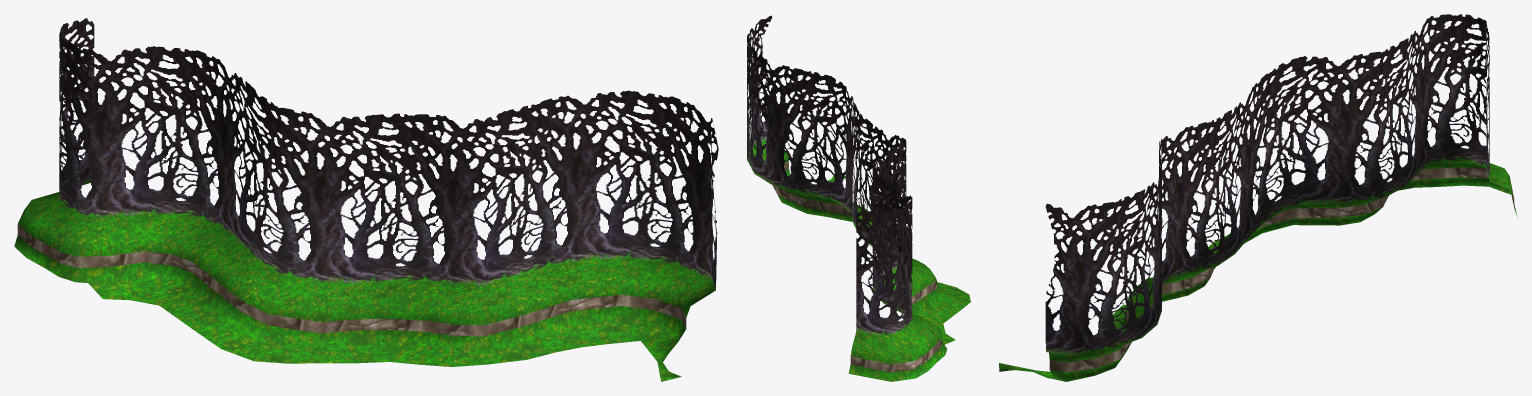
File: EKH_ENTRANCE_PS_EN_BANK84746__GX.fbx
3 renders of one model, left to right at view 1: azimuth 30°, elevation 25°; view 2: azimuth 150°, elevation 25°; view 3: azimuth 270°, elevation 25°, orthographic. The views are drawn at different scales.
Visible parts, largest first — view 1: EKH_ENTRANCE_PS_EN_BANK84746__GX; view 2: EKH_ENTRANCE_PS_EN_BANK84746__GX; view 3: EKH_ENTRANCE_PS_EN_BANK84746__GX.
Part boxes in pixels (x1,y1,x2,y2): EKH_ENTRANCE_PS_EN_BANK84746__GX: (14,18,718,381); EKH_ENTRANCE_PS_EN_BANK84746__GX: (747,15,970,381); EKH_ENTRANCE_PS_EN_BANK84746__GX: (999,14,1517,381).
Size of the model in its own units: 329553 by 165413 by 366604.
3 materials, 3 textured.
